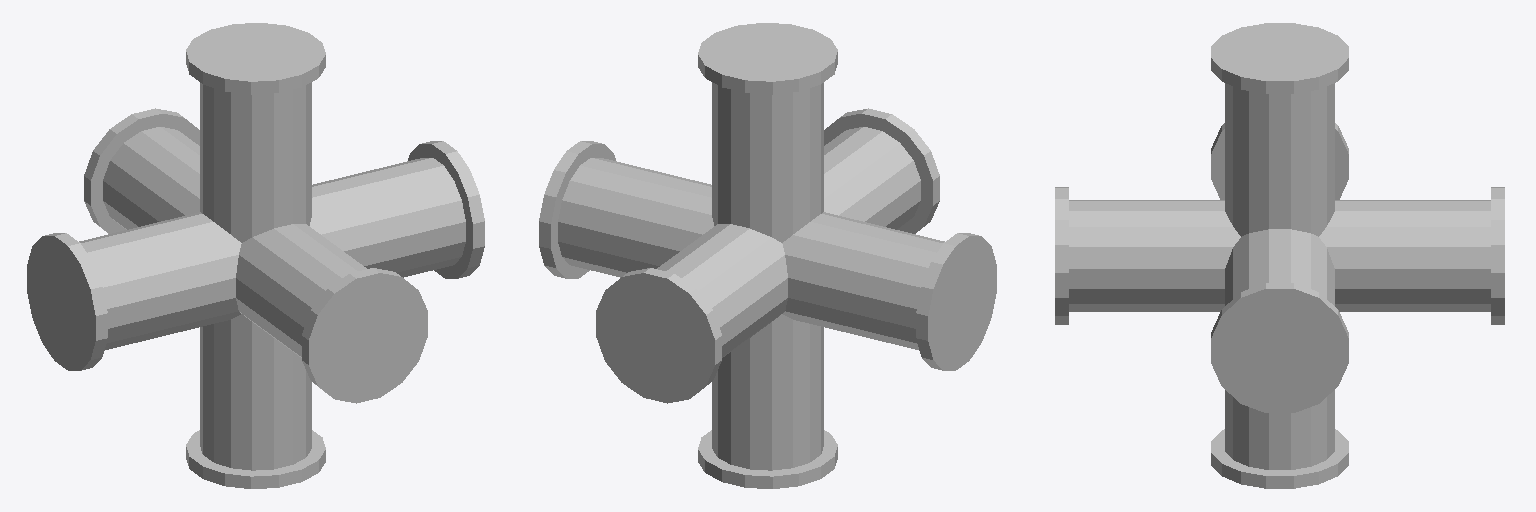
The model's file is pipeworks_pipe_10.obj.
3 views of the same model, side by side, from view 1: azimuth 30°, elevation 25°; view 2: azimuth 150°, elevation 25°; view 3: azimuth 270°, elevation 25° (orthographic).
Visible parts, largest first — view 1: Cube.000; view 2: Cube.000; view 3: Cube.000.
Part boxes in pixels (bbox=[...]): Cube.000: bbox=[27, 23, 484, 488]; Cube.000: bbox=[539, 23, 996, 488]; Cube.000: bbox=[1055, 23, 1504, 488].
Bounding box in the file's own units: 1 × 1 × 1.